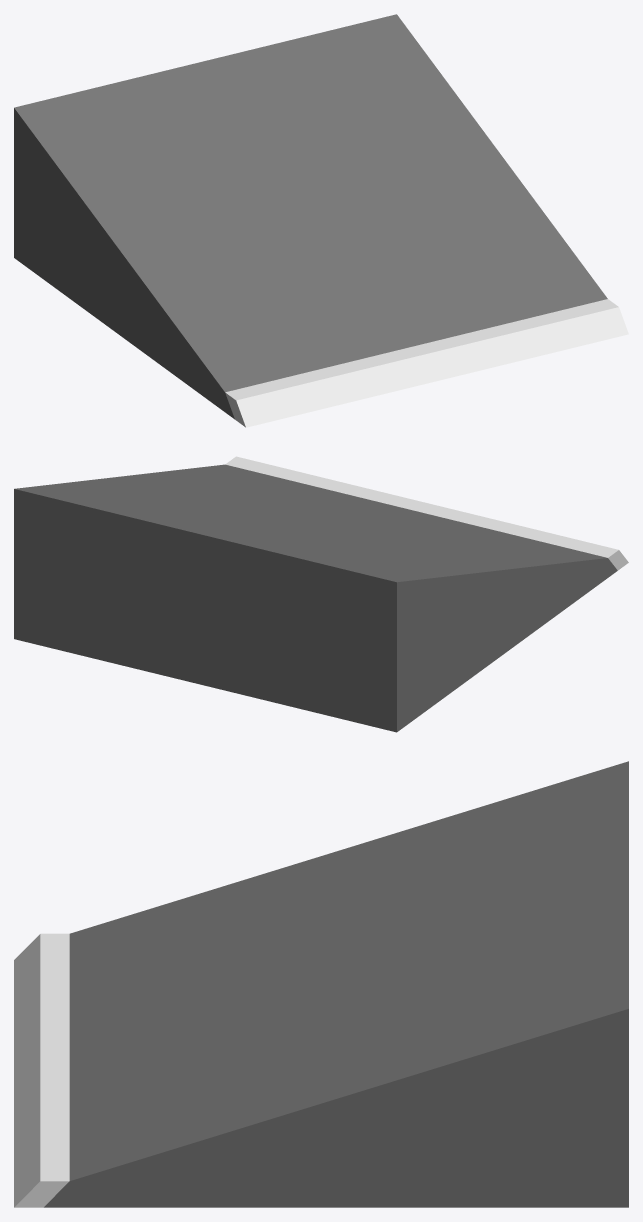
File: RoofShed.fbx
The picture shows the model from 3 angles, top to bottom: view 1: azimuth 30°, elevation 25°; view 2: azimuth 150°, elevation 25°; view 3: azimuth 270°, elevation 25°; orthographic projection. The views are drawn at different scales.
Visible parts, largest first — view 1: RoofShed; view 2: RoofShed; view 3: RoofShed.
Part boxes in pixels (x1,y1,x2,y2): RoofShed: [14, 14, 628, 427]; RoofShed: [14, 456, 628, 732]; RoofShed: [14, 761, 628, 1207].
Bounding box in the file's own units: 200 × 75 × 210.
